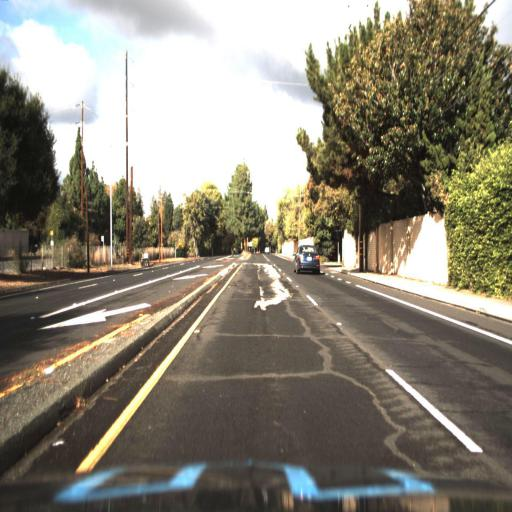car: (290, 242, 323, 276)
